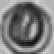correct: (0, 0, 51, 52)
